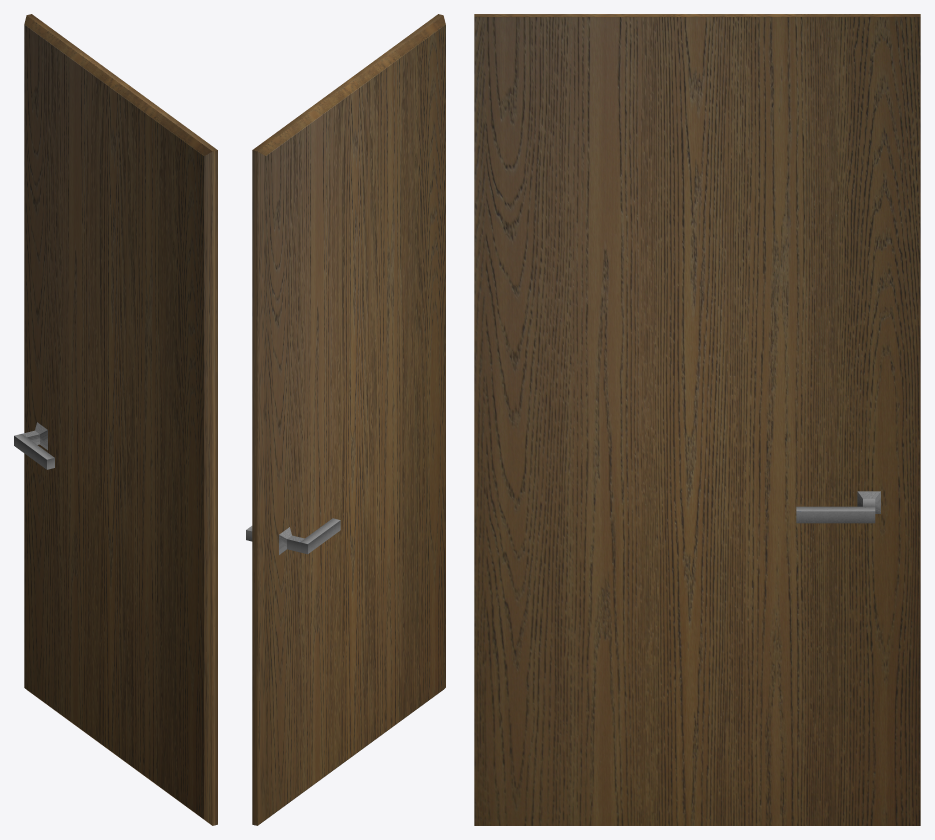
The model's file is Door_18.obj.
3 renders of one model, left to right at view 1: azimuth 30°, elevation 25°; view 2: azimuth 150°, elevation 25°; view 3: azimuth 270°, elevation 25°, orthographic. The views are drawn at different scales.
Parts seen in each view (by area): view 1: Box261, Box262; view 2: Box261, Box262; view 3: Box261, Box260.
Boxes of the visible parts, x1,y1,x2,y2 form: Box261: [24, 14, 217, 825]; Box262: [14, 422, 54, 469]; Box261: [252, 14, 445, 825]; Box262: [279, 518, 340, 554]; Box261: [474, 14, 920, 825]; Box260: [796, 491, 880, 523].
Size of the model in its own units: 11.32 by 118 by 59.06.
